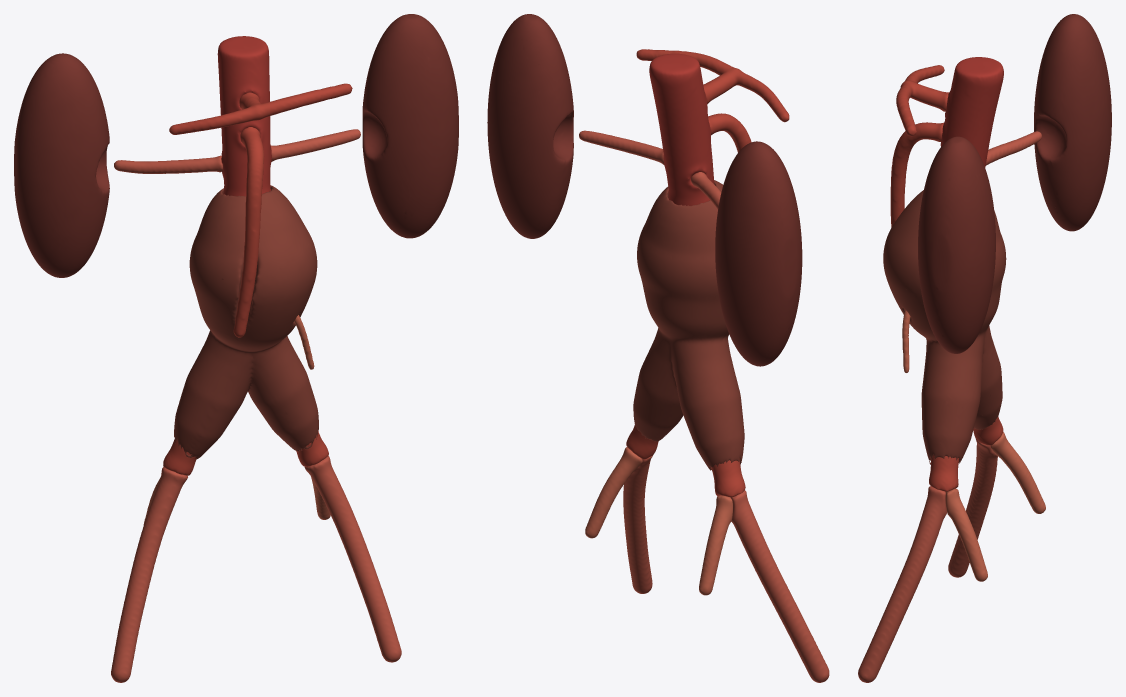
File: artery_aaa_iliac.glb
3 renders of one model, left to right at view 1: azimuth 30°, elevation 25°; view 2: azimuth 150°, elevation 25°; view 3: azimuth 270°, elevation 25°, orthographic. The views are drawn at different scales.
Visible parts, largest first — view 1: kidneys, aneurysm_sac, external_iliacs, aorta, superior_mesenteric, renal_arteries, celiac_trunk, common_iliacs; view 2: kidneys, aneurysm_sac, external_iliacs, aorta, internal_iliacs, celiac_trunk, renal_arteries, common_iliacs, superior_mesenteric; view 3: kidneys, aneurysm_sac, external_iliacs, aorta, internal_iliacs, superior_mesenteric, celiac_trunk, common_iliacs, renal_arteries, inferior_mesenteric.
Part boxes in pixels (bbox=[...]): kidneys: bbox=[14, 14, 458, 277]; aneurysm_sac: bbox=[174, 185, 318, 459]; external_iliacs: bbox=[111, 455, 401, 682]; aorta: bbox=[217, 36, 271, 196]; superior_mesenteric: bbox=[233, 127, 263, 337]; renal_arteries: bbox=[114, 129, 360, 173]; celiac_trunk: bbox=[169, 83, 352, 134]; common_iliacs: bbox=[163, 431, 328, 475]; kidneys: bbox=[487, 14, 802, 366]; aneurysm_sac: bbox=[633, 180, 744, 470]; external_iliacs: bbox=[623, 455, 829, 682]; aorta: bbox=[649, 53, 714, 205]; internal_iliacs: bbox=[585, 447, 732, 595]; celiac_trunk: bbox=[636, 49, 789, 122]; renal_arteries: bbox=[579, 130, 721, 209]; common_iliacs: bbox=[626, 425, 745, 497]; superior_mesenteric: bbox=[708, 113, 751, 152]; kidneys: bbox=[918, 14, 1111, 353]; aneurysm_sac: bbox=[883, 190, 1006, 464]; external_iliacs: bbox=[858, 438, 997, 682]; aorta: bbox=[940, 57, 1003, 167]; internal_iliacs: bbox=[945, 432, 1045, 581]; superior_mesenteric: bbox=[890, 122, 943, 227]; celiac_trunk: bbox=[896, 65, 949, 136]; common_iliacs: bbox=[929, 416, 1003, 491]; renal_arteries: bbox=[985, 131, 1041, 165]; inferior_mesenteric: bbox=[902, 310, 910, 372].
Bounding box in the file's own units: 17.44 × 26.79 × 10.72.
